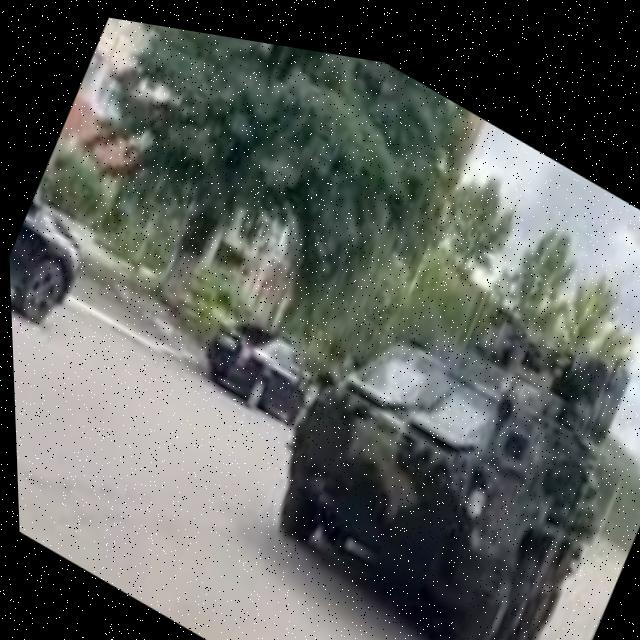MIL_APC: (220, 171, 640, 640)
